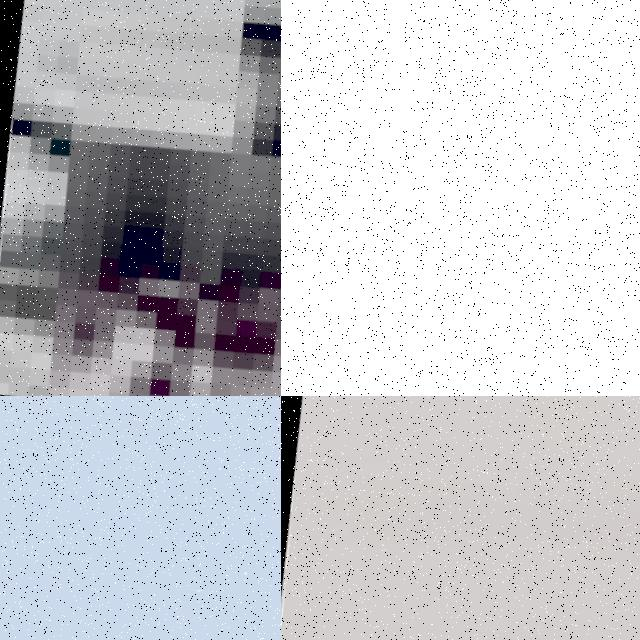drone: (0, 0, 281, 396), (281, 396, 640, 640)
